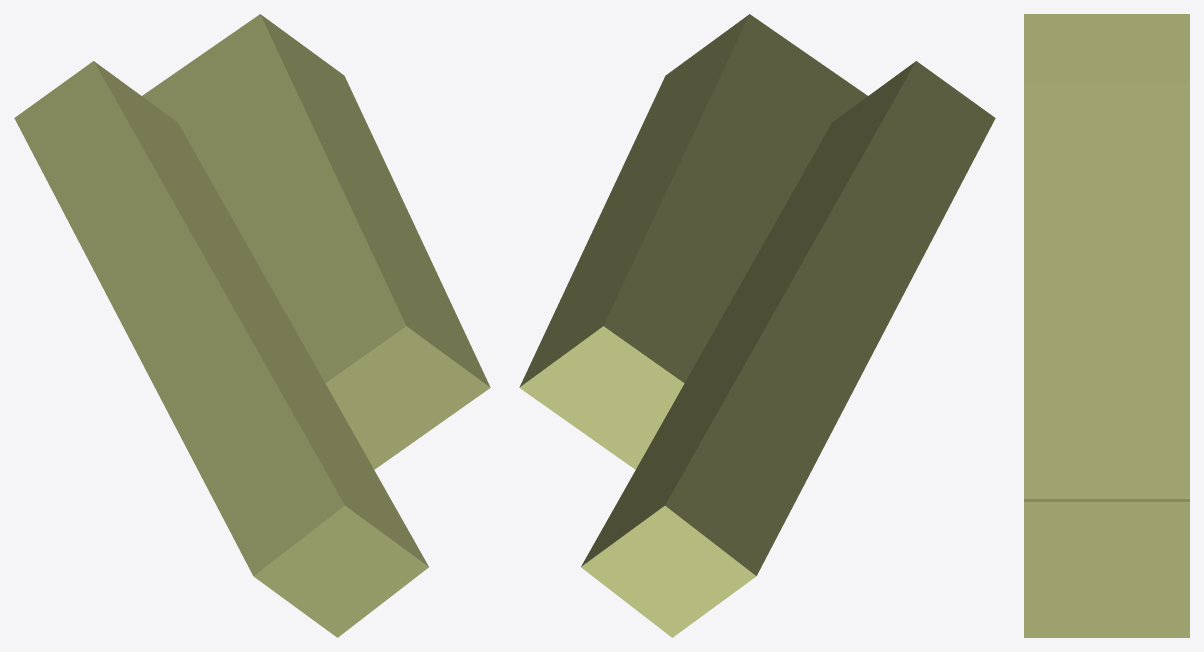
3 views of the same model, side by side, from view 1: azimuth 30°, elevation 25°; view 2: azimuth 150°, elevation 25°; view 3: azimuth 270°, elevation 25° (orthographic).
Parts seen in each view (by area): view 1: 0_1_0_2_2_1_1_3_1; view 2: 0_1_0_2_2_1_1_3_1; view 3: 0_1_0_2_2_1_1_3_1.
Boxes of the visible parts, bbox=[...] form: 0_1_0_2_2_1_1_3_1: bbox=[14, 14, 490, 637]; 0_1_0_2_2_1_1_3_1: bbox=[519, 14, 995, 637]; 0_1_0_2_2_1_1_3_1: bbox=[1024, 14, 1189, 637].
Size of the model in its own units: 16.13 by 22.04 by 6.
